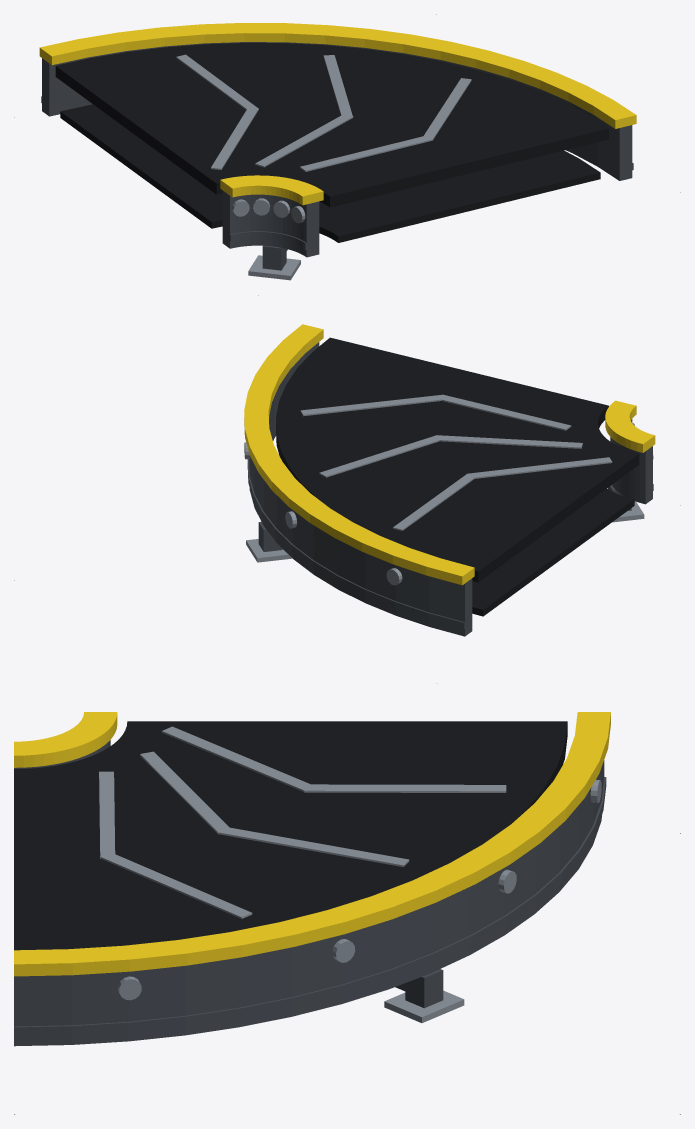
Rendered from convoyeur_virage_t1.glb.
3 views of the same model, one above another, from view 1: azimuth 30°, elevation 25°; view 2: azimuth 150°, elevation 25°; view 3: azimuth 270°, elevation 25° (orthographic). The views are drawn at different scales.
Parts seen in each view (by area): view 1: tapis_porteur.024, tapis_retour.024, rive_1.024, bande_acier.048, longeron_1.024, longeron_-1.024, rive_-1.024, pieces_acier.054, nervure_-1.012, pieces_acier_sombre.022; view 2: tapis_porteur.024, longeron_1.024, rive_1.024, tapis_retour.024, bande_acier.048, nervure_1.012, rive_-1.024, longeron_-1.024, pieces_acier.054; view 3: tapis_porteur.024, longeron_1.024, rive_1.024, bande_acier.048, nervure_1.012, rive_-1.024, pieces_acier.054, pieces_acier_sombre.022.
Part boxes in pixels (x1,y1,x2,y2): tapis_porteur.024: (55, 43, 608, 207); tapis_retour.024: (60, 104, 600, 242); rive_1.024: (39, 23, 636, 128); bande_acier.048: (176, 54, 471, 171); longeron_1.024: (42, 42, 632, 180); longeron_-1.024: (222, 190, 319, 257); rive_-1.024: (220, 175, 323, 205); pieces_acier.054: (232, 198, 305, 280); nervure_-1.012: (230, 231, 307, 249); pieces_acier_sombre.022: (262, 245, 287, 270); tapis_porteur.024: (276, 337, 639, 582); longeron_1.024: (249, 342, 472, 636); rive_1.024: (244, 324, 474, 585); tapis_retour.024: (472, 488, 634, 616); bande_acier.048: (300, 394, 612, 530); nervure_1.012: (247, 459, 465, 629); rive_-1.024: (605, 400, 655, 452); longeron_-1.024: (610, 419, 652, 504); pieces_acier.054: (244, 423, 653, 585); tapis_porteur.024: (14, 721, 567, 950); longeron_1.024: (14, 760, 604, 1046); rive_1.024: (14, 712, 610, 976); bande_acier.048: (99, 726, 506, 918); nervure_1.012: (14, 777, 606, 1036); rive_-1.024: (14, 712, 117, 767); pieces_acier.054: (118, 779, 601, 1022); pieces_acier_sombre.022: (395, 969, 443, 1008).
Size of the model in its own units: 1 by 0.2 by 1.
